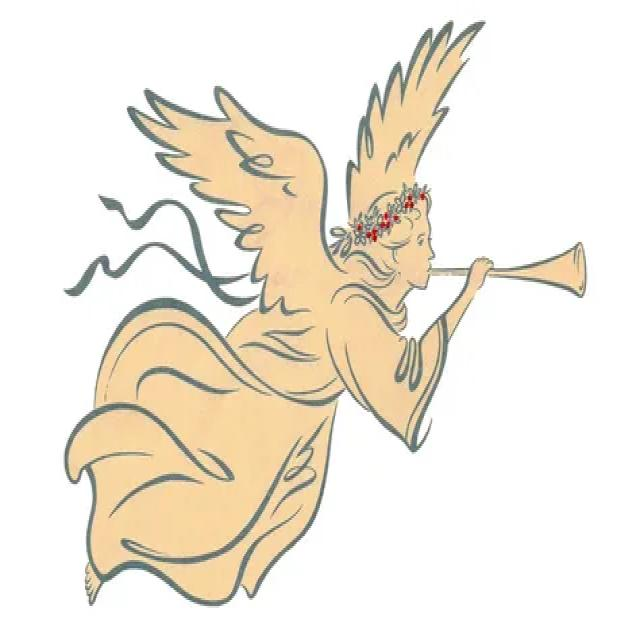angel: (64, 11, 603, 636)
